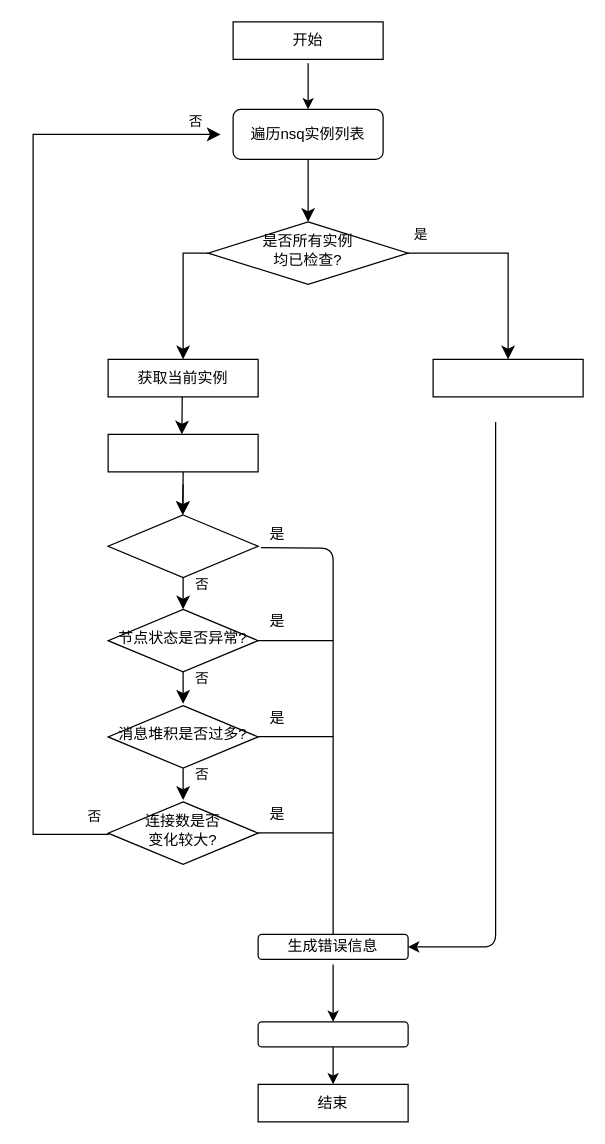
The diagram is 605 pixels wide and 1144 high, and some of its shapes have lost their labels. The shapes that lost their labels are listed below. From the top down, each one's centre as x and y in pixels, then its label:
point 507,377: 生成执行成功的结果
point 182,452: 发起RPC请求 获取实例当前信息
point 182,546: 是否没有topic?
point 332,1034: 回复server
